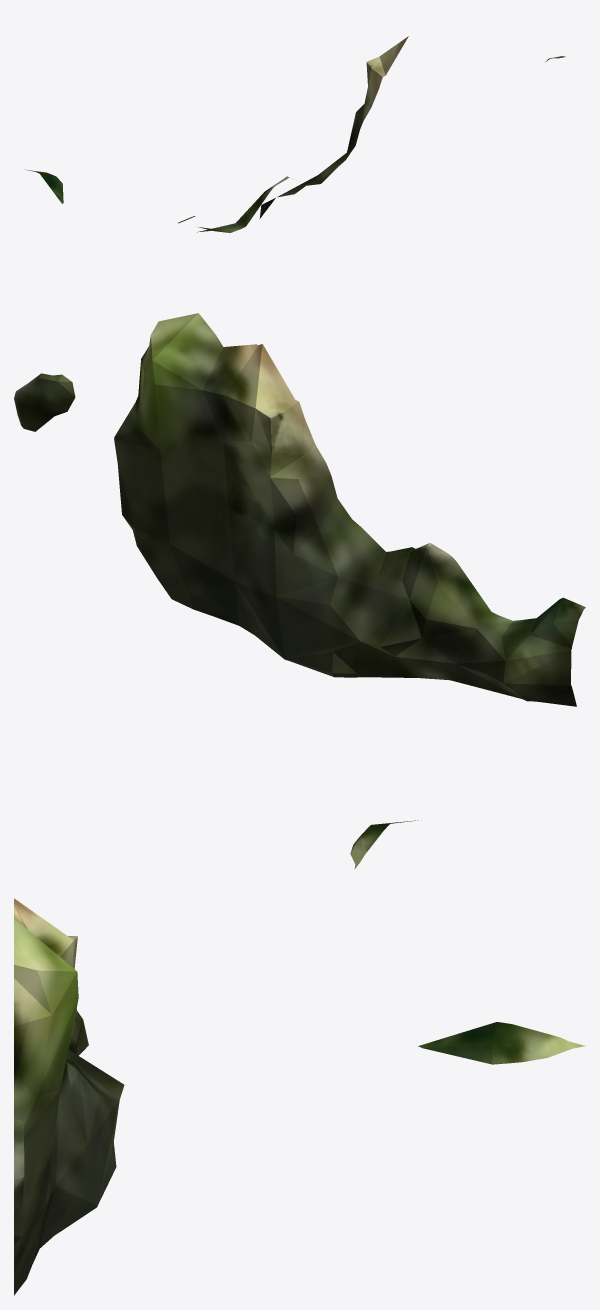
3 renders of one model, top to bottom at view 1: azimuth 30°, elevation 25°; view 2: azimuth 150°, elevation 25°; view 3: azimuth 270°, elevation 25°, orthographic. The views are drawn at different scales.
Bounding box in the file's own units: 0.6328 × 0.3094 × 0.4439.
1 material, 1 textured.
